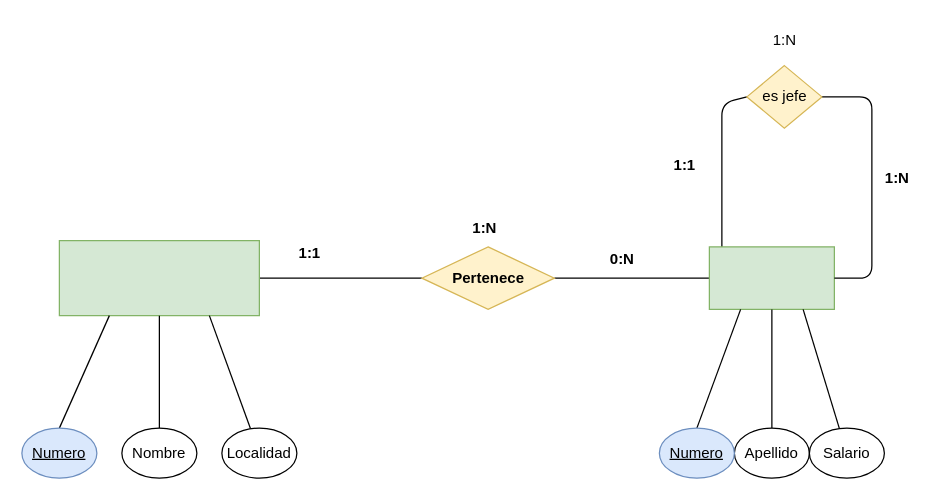
This 944x500 diagram has some shape labels left out. Here are the shapes that lost their labels. From the top down, the centre of each, then its label:
At pixel 158 277: "Departamento".
At pixel 771 277: "Empleado".
